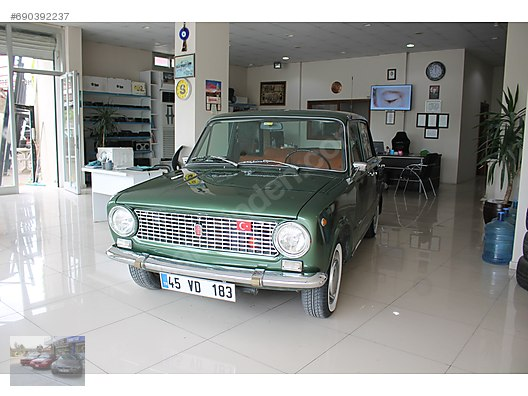murat: (101, 107, 385, 325)
